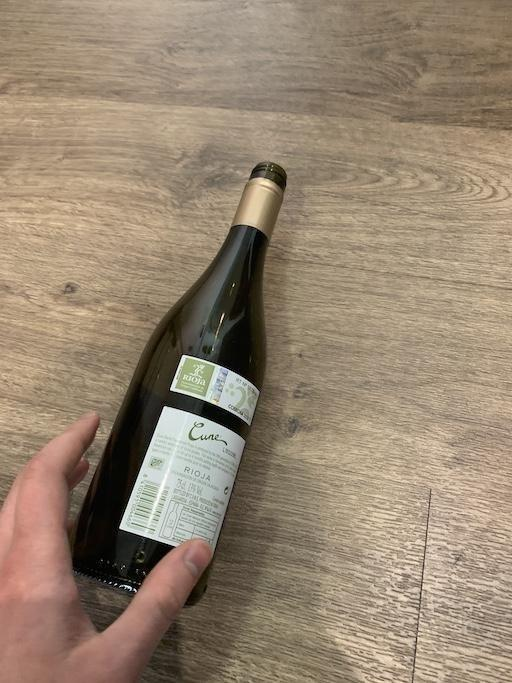bottle-glass: (67, 161, 288, 602)
